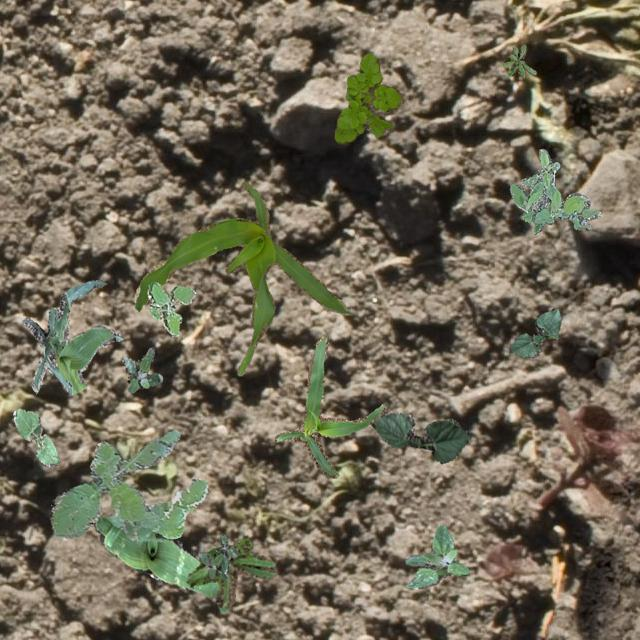crop: (133, 182, 350, 374), (274, 334, 386, 478), (20, 278, 121, 394), (92, 514, 218, 596), (370, 412, 470, 462), (12, 408, 58, 466), (508, 306, 560, 356)
weed: (50, 430, 206, 540), (508, 148, 600, 232), (186, 536, 274, 610), (334, 52, 404, 144), (403, 522, 468, 588), (146, 280, 194, 336), (120, 346, 162, 392), (198, 532, 236, 578), (502, 44, 536, 76)
